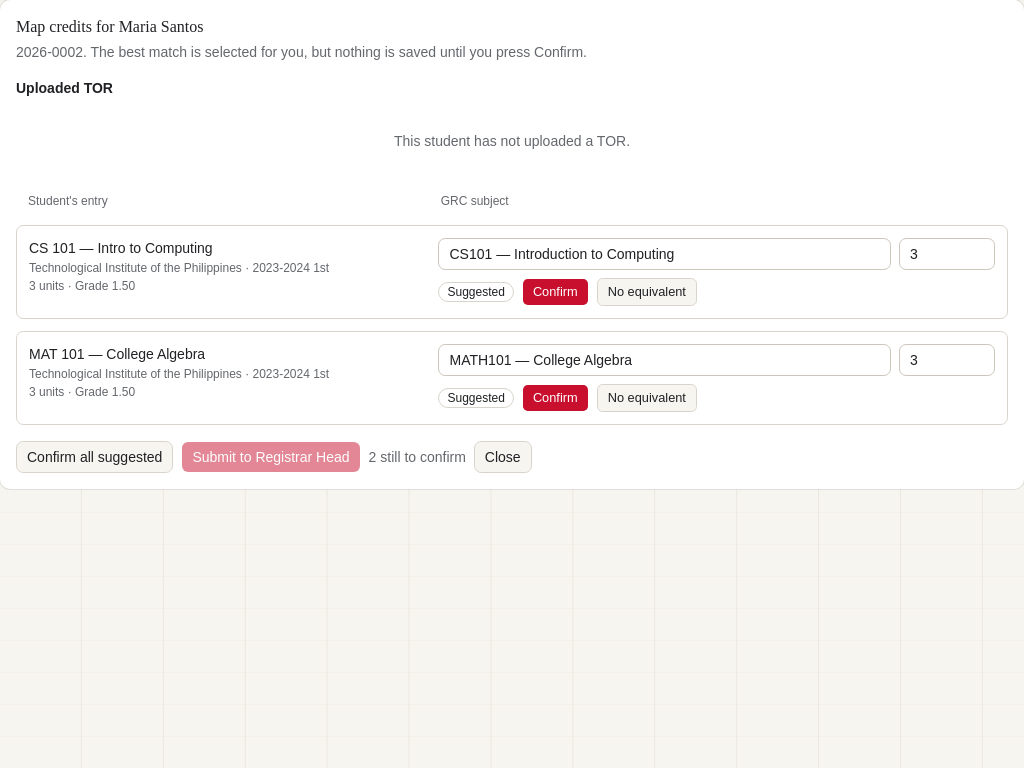
Test: StudentCreditMappingPanel › shows the API's reason when sending is refused, and stays open
Click the button "Confirm all suggested" at (95, 457), box [16,441,173,473]
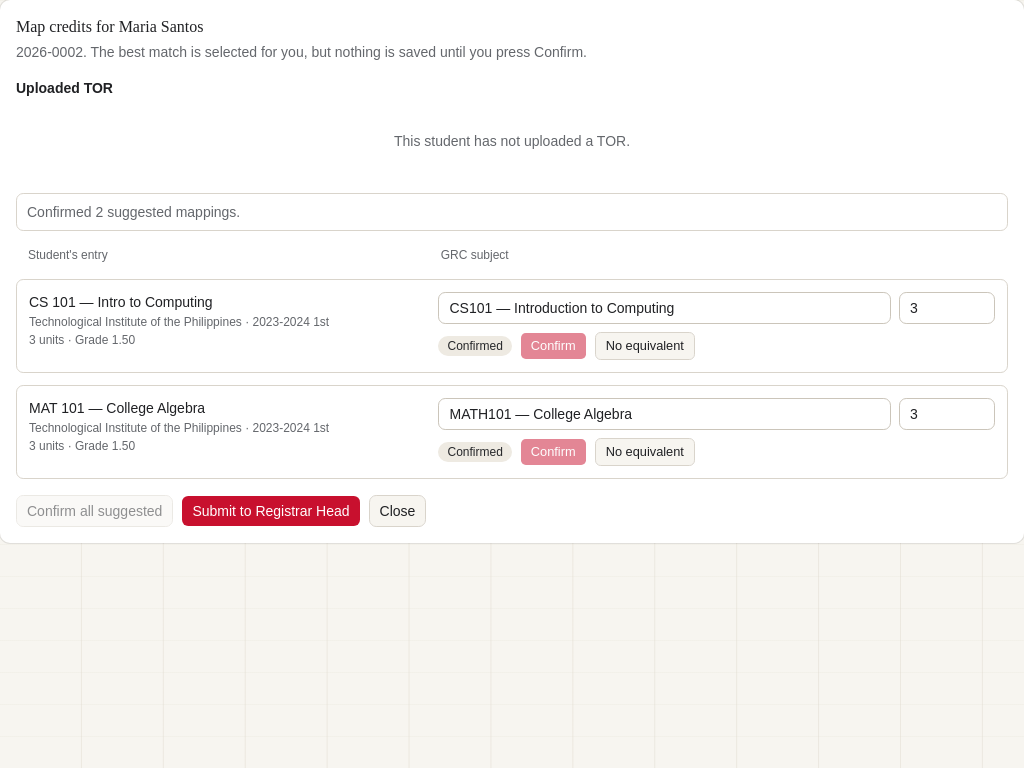
Result: the button "Submit to Registrar Head" is enabled
Click the button "Submit to Registrar Head" at (271, 511), box [181,495,361,527]
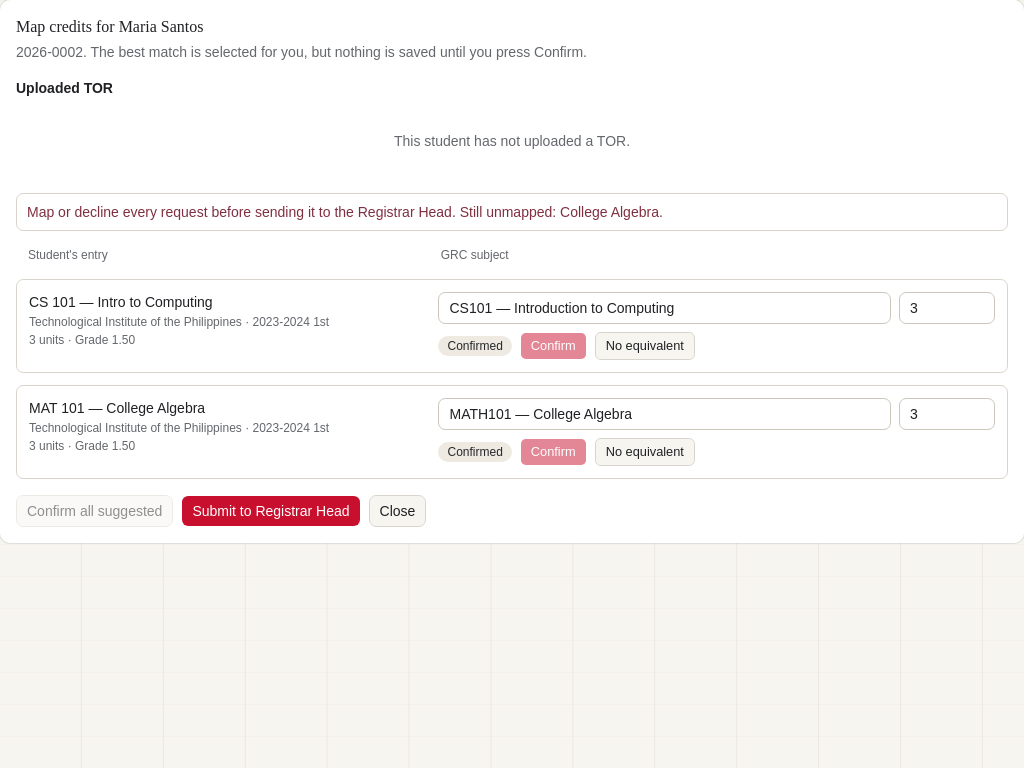
Result: the message shows "Still unmapped: College Algebra" at [27,204,663,220]
